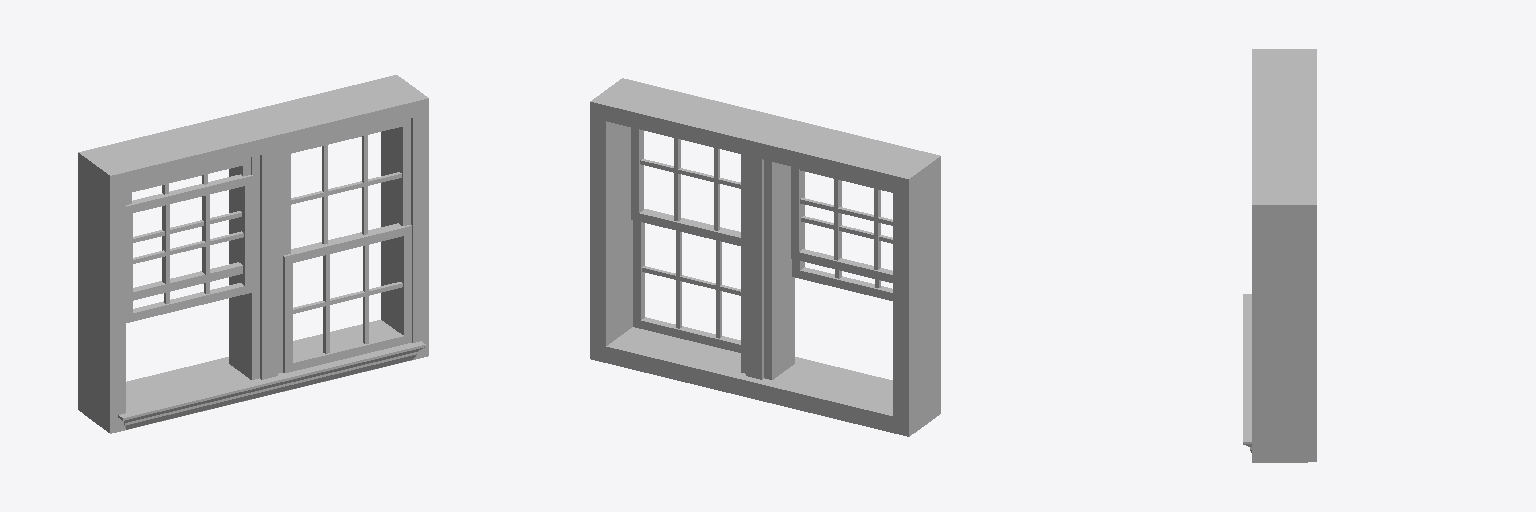
File: Window_Double_Open.obj
The picture shows the model from 3 angles: view 1: azimuth 30°, elevation 25°; view 2: azimuth 150°, elevation 25°; view 3: azimuth 270°, elevation 25°; orthographic projection.
Visible parts, largest first — view 1: object2, object3, object5, object1, object4; view 2: object2, object3, object1, object4, object5; view 3: object2.
Part boxes in pixels (left/top/right/bottom): object2: left=78, top=75, right=428, bottom=433; object3: left=283, top=225, right=411, bottom=372; object5: left=126, top=174, right=252, bottom=322; object1: left=283, top=119, right=410, bottom=255; object4: left=126, top=158, right=250, bottom=300; object2: left=590, top=78, right=940, bottom=436; object3: left=633, top=209, right=740, bottom=352; object1: left=631, top=128, right=740, bottom=245; object4: left=791, top=167, right=892, bottom=282; object5: left=792, top=169, right=892, bottom=300; object2: left=1243, top=49, right=1316, bottom=462.
Bounding box in the file's own units: 2 × 1.55 × 0.4.